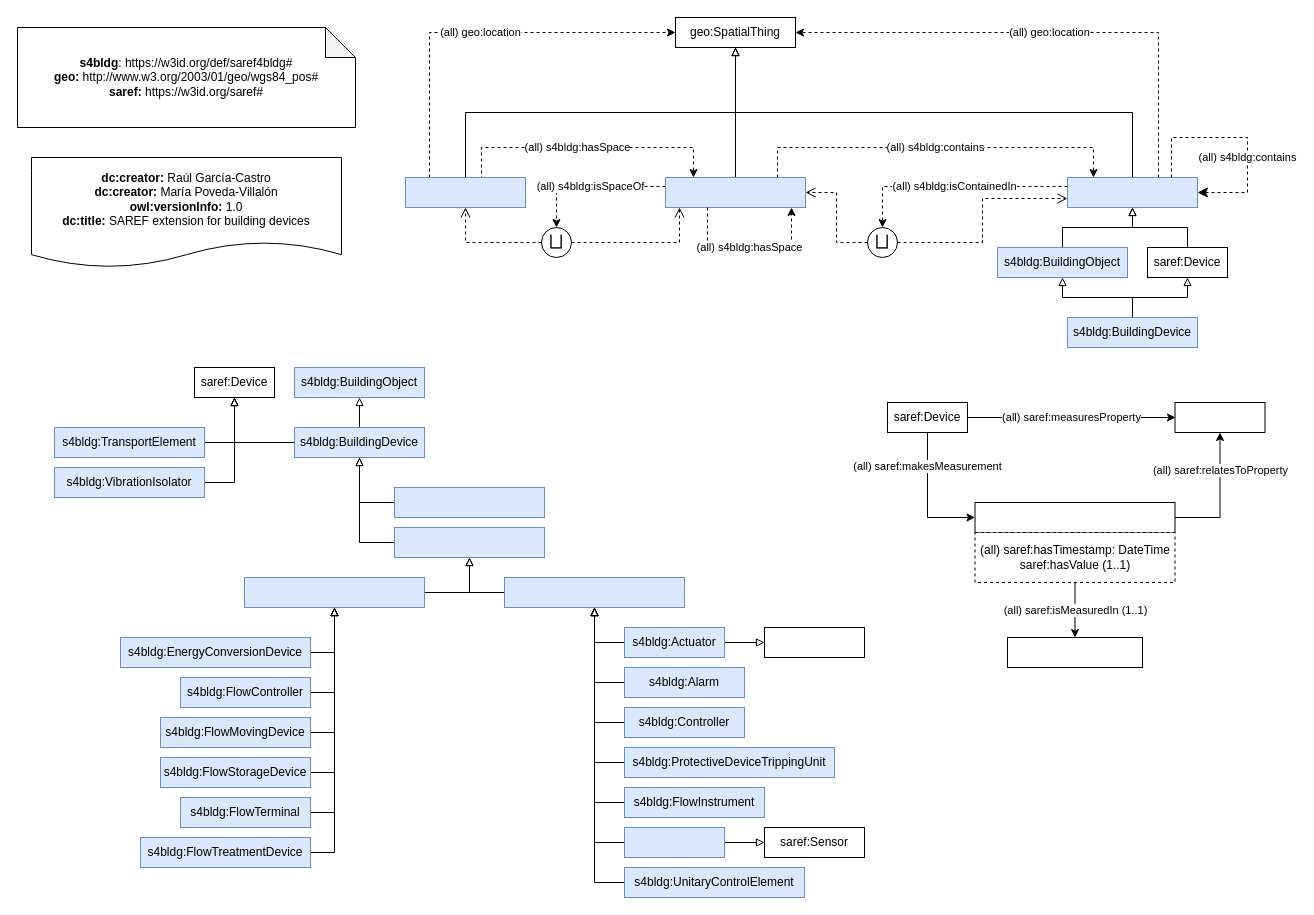
Some shapes in this 1314 by 915 pixel diagram are drawn without their labels. Here are the shapes that lost their labels. From the top down, the centre of each, then its label:
At [465,192]: "s4bldg:Building".
At [735,192]: "s4bldg:BuildingSpace".
At [1132,192]: "s4bldg:PhysicalObject".
At [1219,417]: "saref:Property".
At [469,502]: "s4bldg:ShadingDevice".
At [1074,517]: "saref:Measurement".
At [469,542]: "s4bldg:DistributionDevice".
At [334,592]: "s4bldg:DistributionFlowDevice".
At [594,592]: "s4bldg:DistributionControlDevice".
At [814,642]: "saref:Actuator".
At [1074,652]: "saref:UnitOfMeasure".
At [674,842]: "s4bldg:Sensor".
